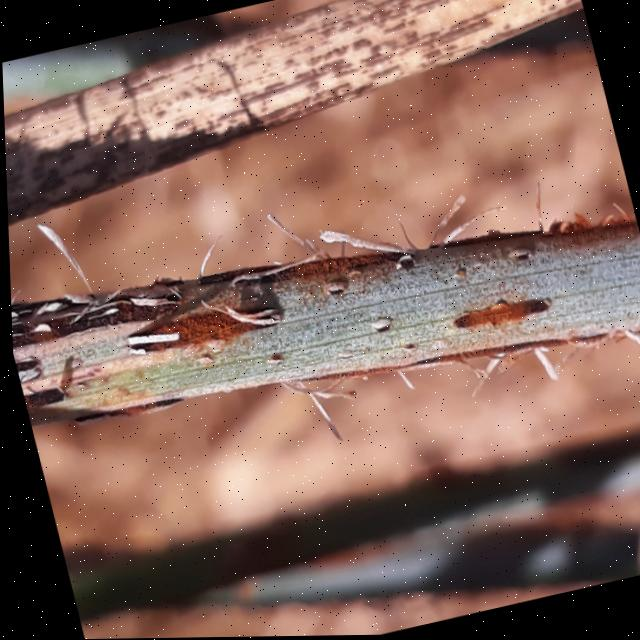black_stem_rust: (0, 0, 640, 504), (85, 397, 640, 639)
